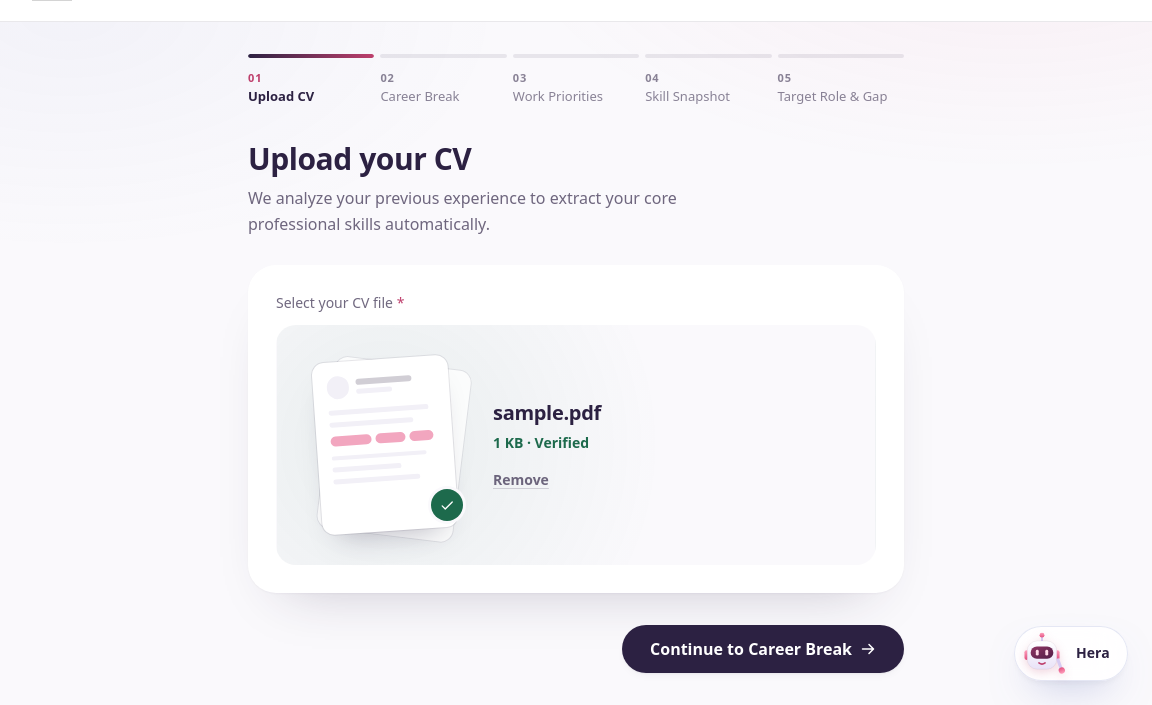
screen navigation › preserves form data when moving forward and back between steps
The width and height of the screenshot is (1152, 705).
(page scrolled)
Click the button "Continue to Career Break": (763, 649) [622, 625, 904, 673]
(page scrolled)
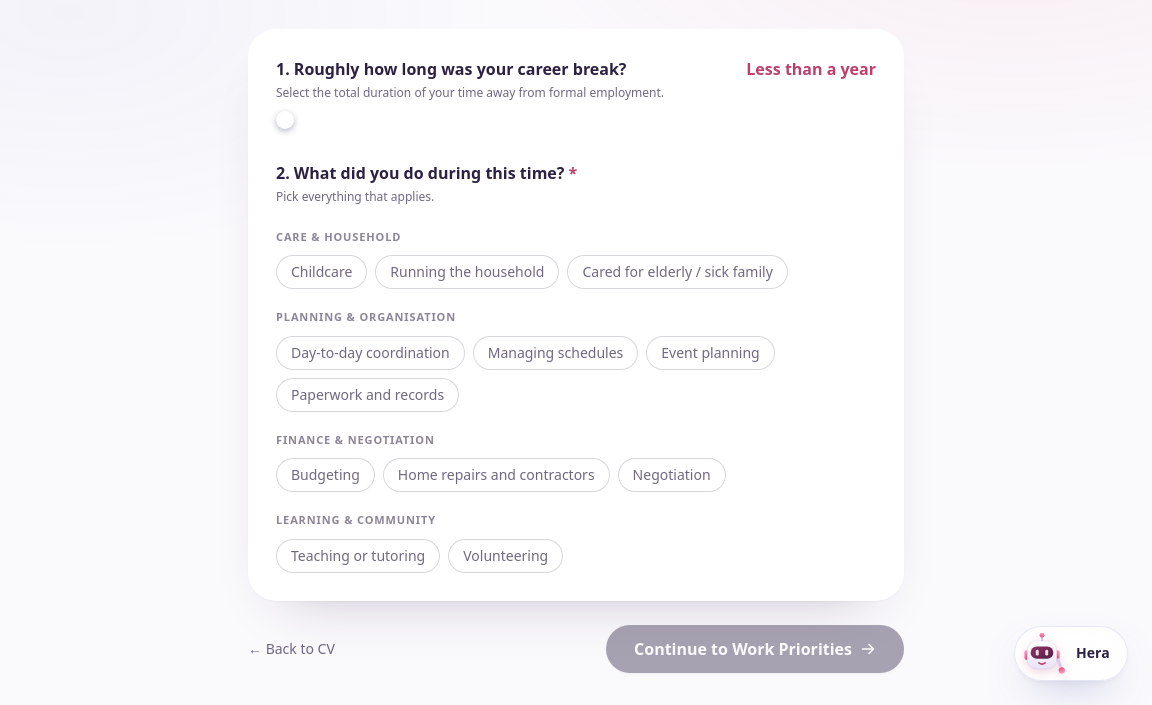
Click the button "← Back to CV": (291, 649) [240, 635, 343, 663]
(page scrolled)
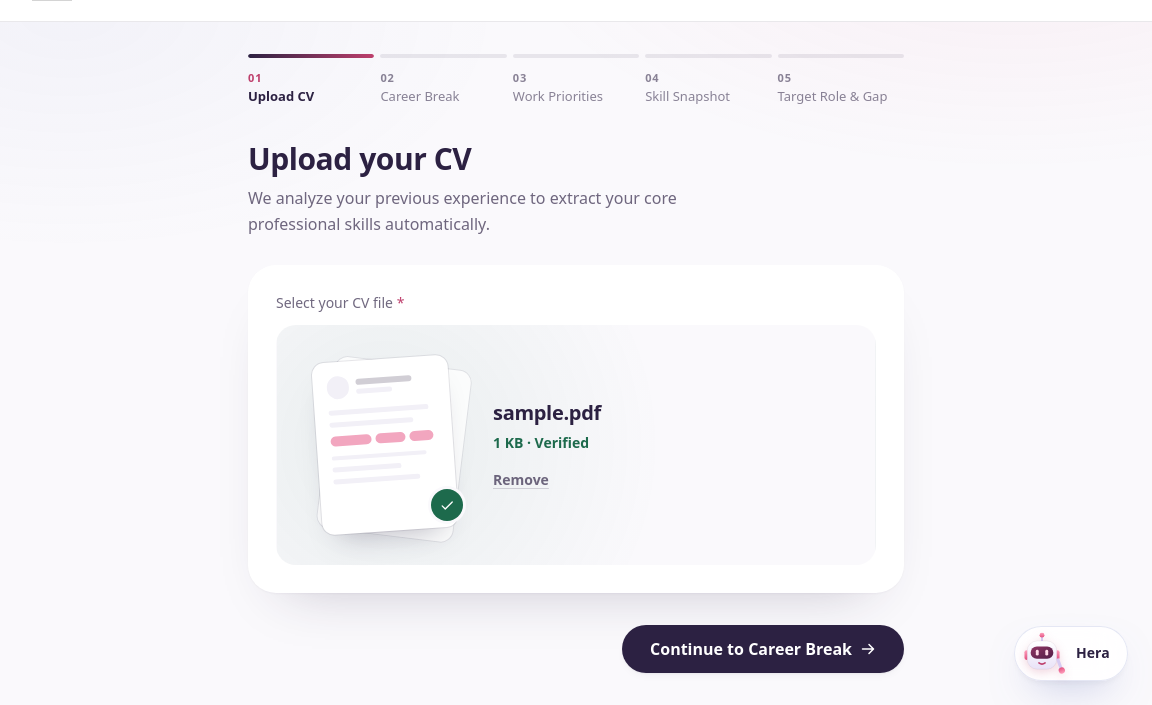
Result: the heading "Upload your CV" is shown at [248, 138, 471, 179]
Result: the text "sample.pdf" is shown at [493, 399, 601, 426]
